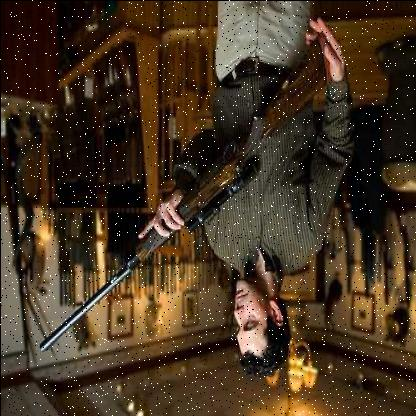rifle: (35, 34, 331, 371)
